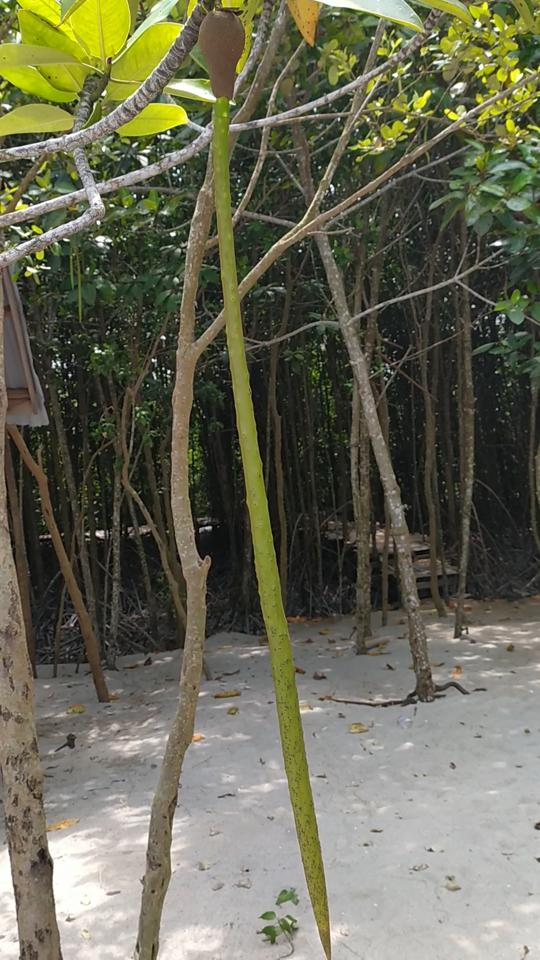mentah: (186, 1, 350, 959)
